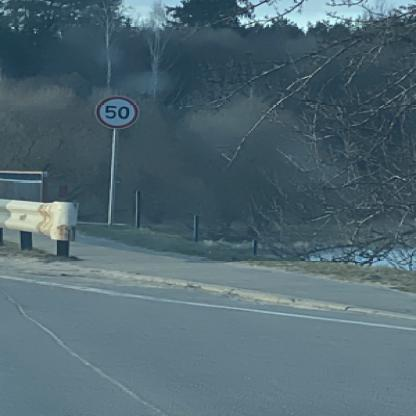speedlimit: (93, 95, 137, 129)
